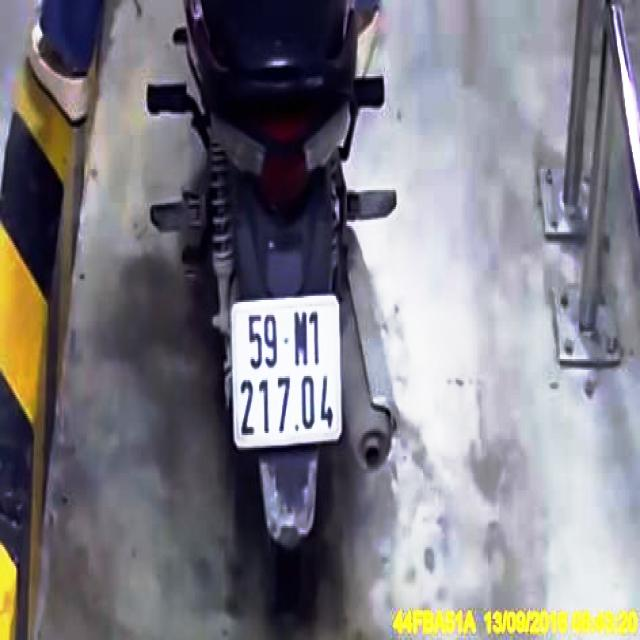license_plate: (232, 300, 341, 442)
